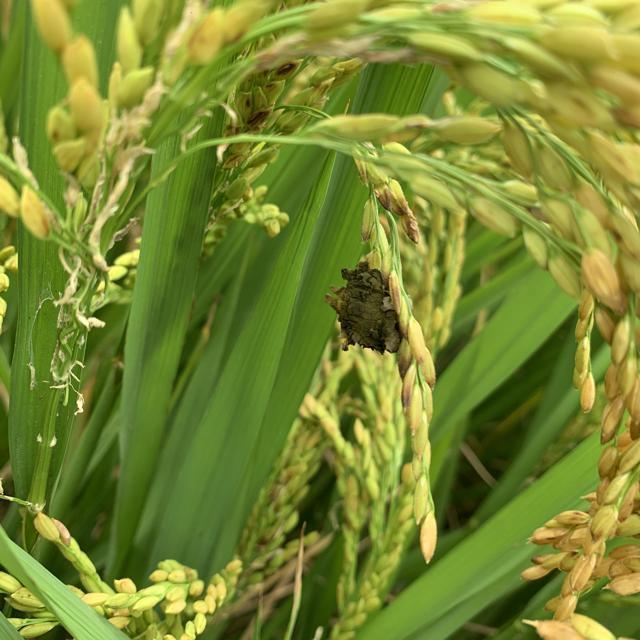Leaf_Scald: (324, 262, 408, 354)
